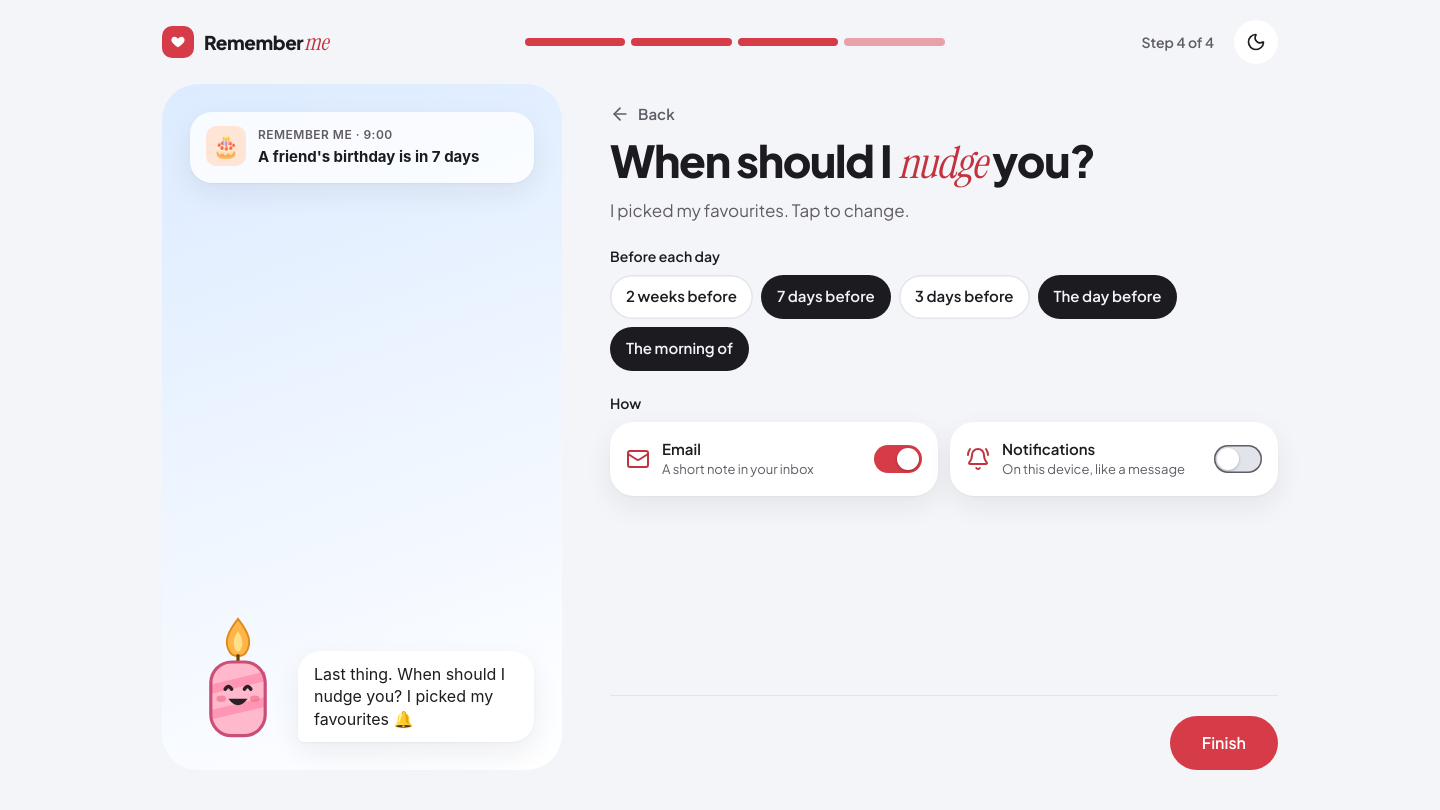
it: Onboarding · step 4, Reminders, and Done › Finish saves once, clears the draft and shows You're all set
Click the button "2 weeks before" at (681, 297), box [610,275,753,319]
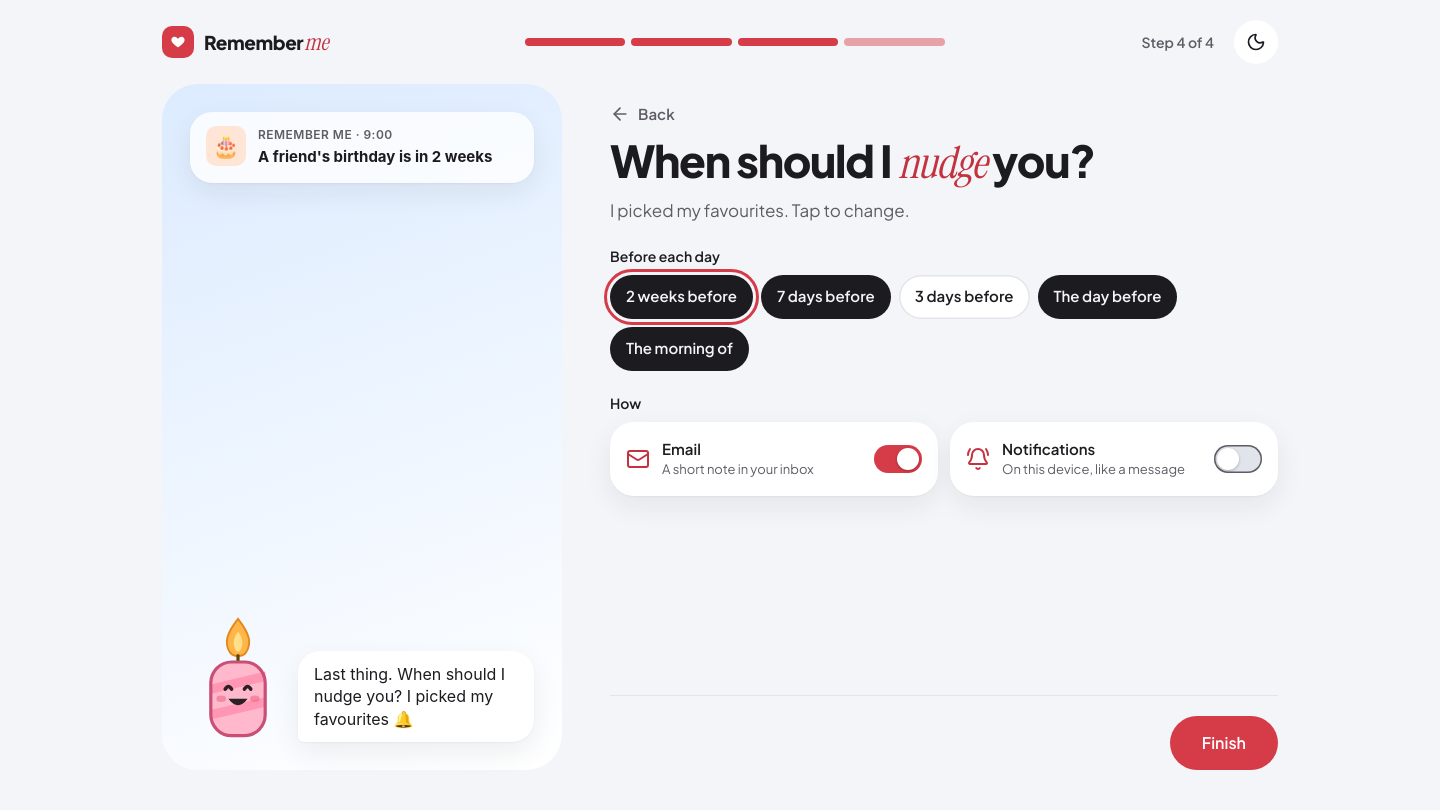
Click the button "Finish" at (1224, 743), box [1170,716,1278,770]
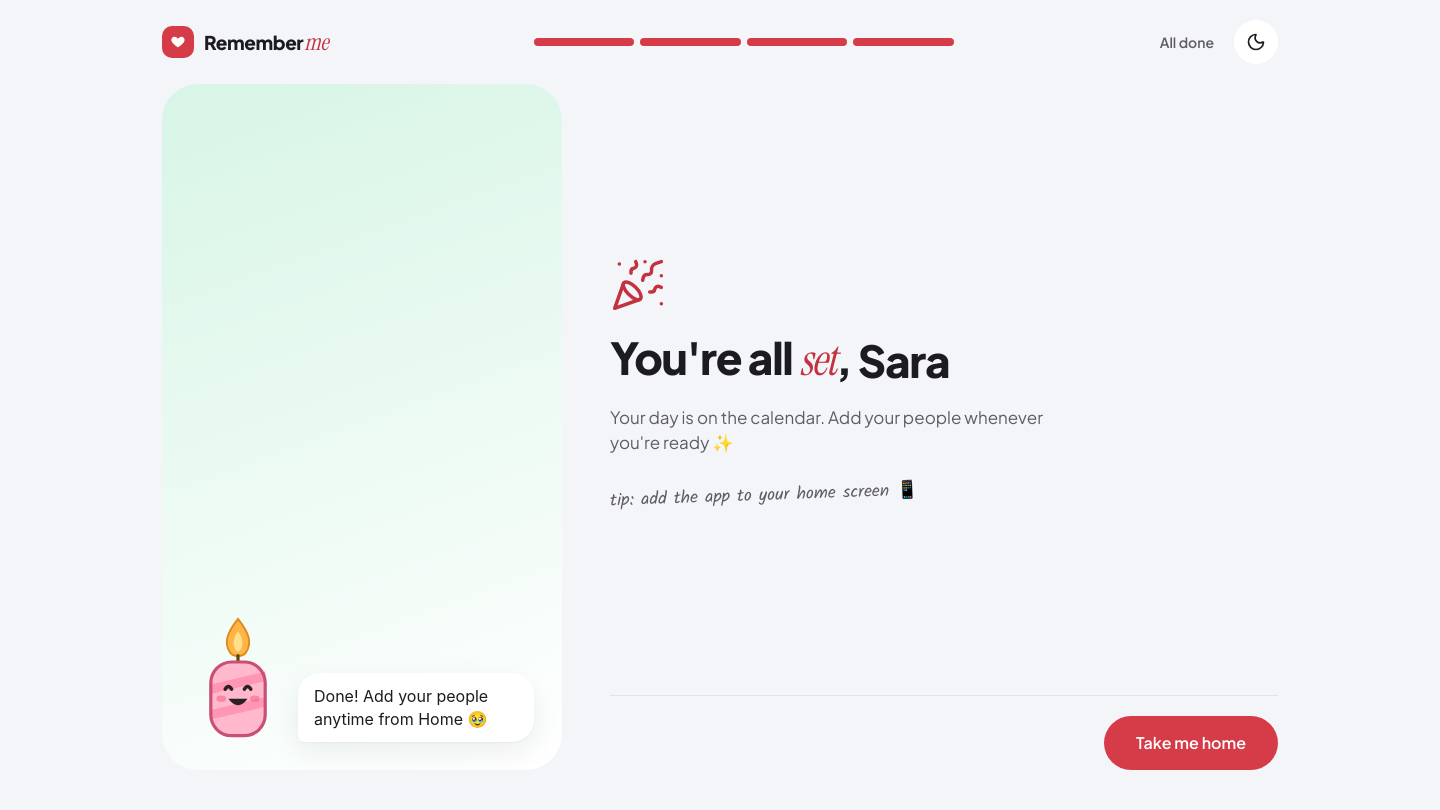
Check: the heading "You're all set, Sara" is shown, box [610,329,949,389]
